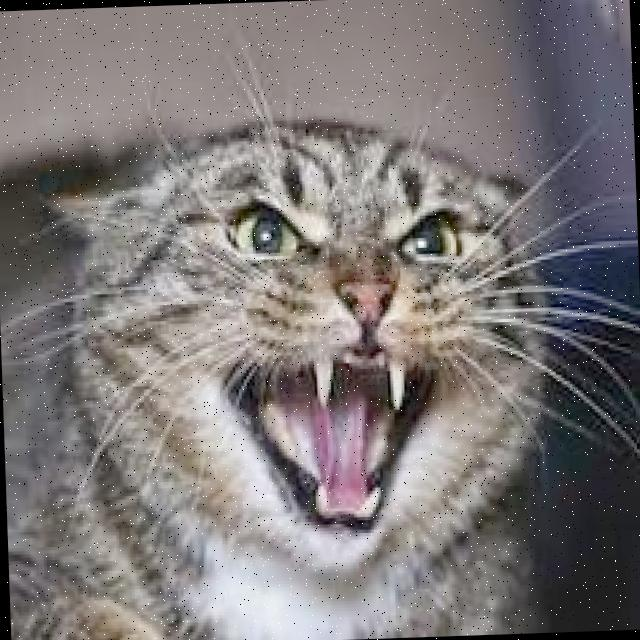Angry: (185, 152, 508, 582)
